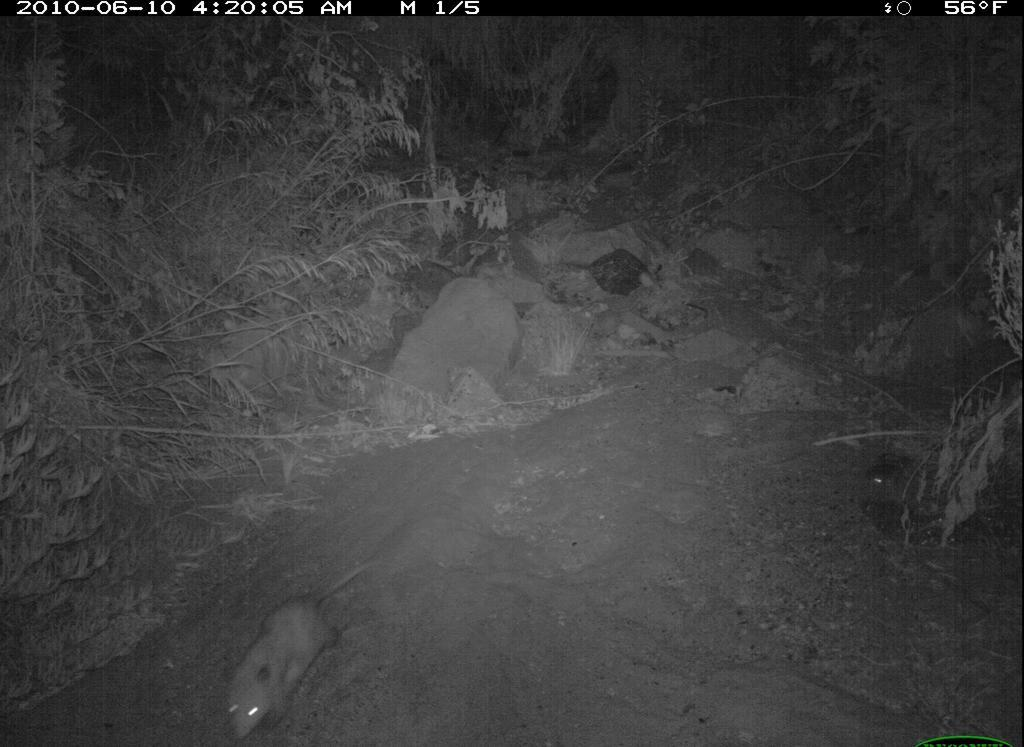opossum: (216, 555, 382, 745)
